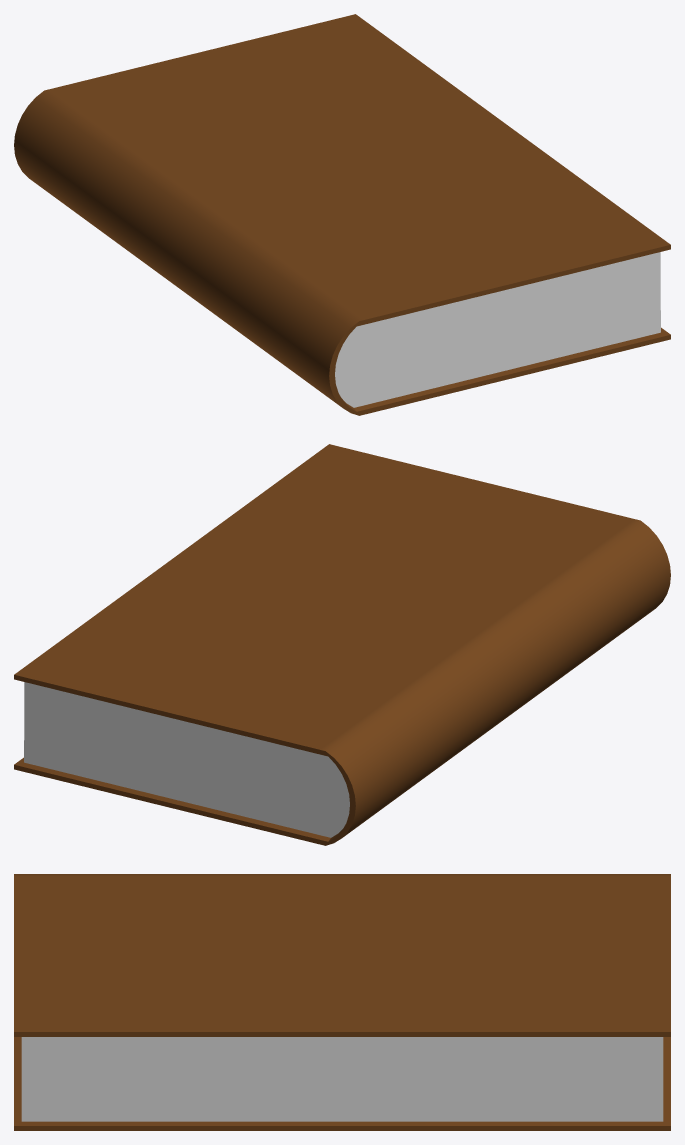
File: livro.fbx
3 renders of one model, top to bottom at view 1: azimuth 30°, elevation 25°; view 2: azimuth 150°, elevation 25°; view 3: azimuth 270°, elevation 25°, orthographic. The views are drawn at different scales.
Visible parts, largest first — view 1: Book; view 2: Book; view 3: Book.
Boxes of the visible parts, x1,y1,x2,y2 form: Book: (14, 14, 670, 415); Book: (14, 444, 670, 845); Book: (14, 874, 670, 1130).
Bounding box in the file's own units: 74.35 × 19.78 × 119.
